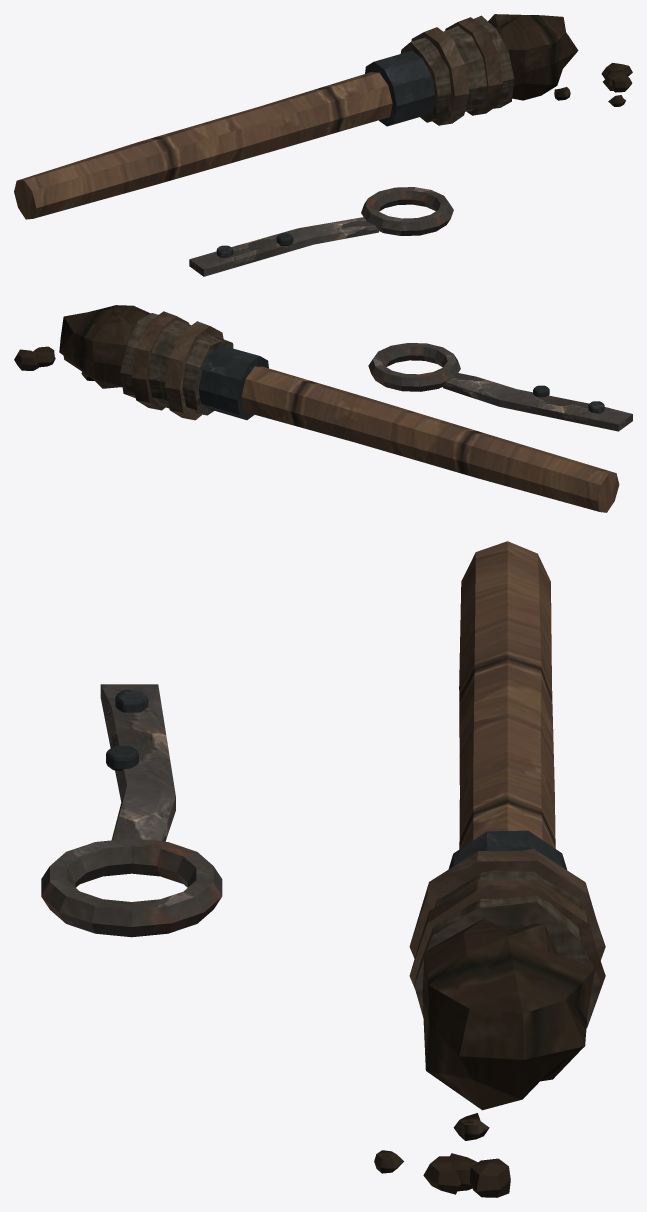
Rendered from junk_torch_dropped.glb.
3 views of the same model, one above another, from view 1: azimuth 30°, elevation 25°; view 2: azimuth 150°, elevation 25°; view 3: azimuth 270°, elevation 25° (orthographic). The views are drawn at different scales.
Visible parts, largest first — view 1: model; view 2: model; view 3: model.
Part boxes in pixels (box(x1,y1,x2,y2)): model: box(14, 14, 632, 276); model: box(14, 305, 632, 512); model: box(41, 541, 605, 1197).
Bounding box in the file's own units: 0.6256 × 0.0883 × 0.2554.
6 materials, 6 textured.
